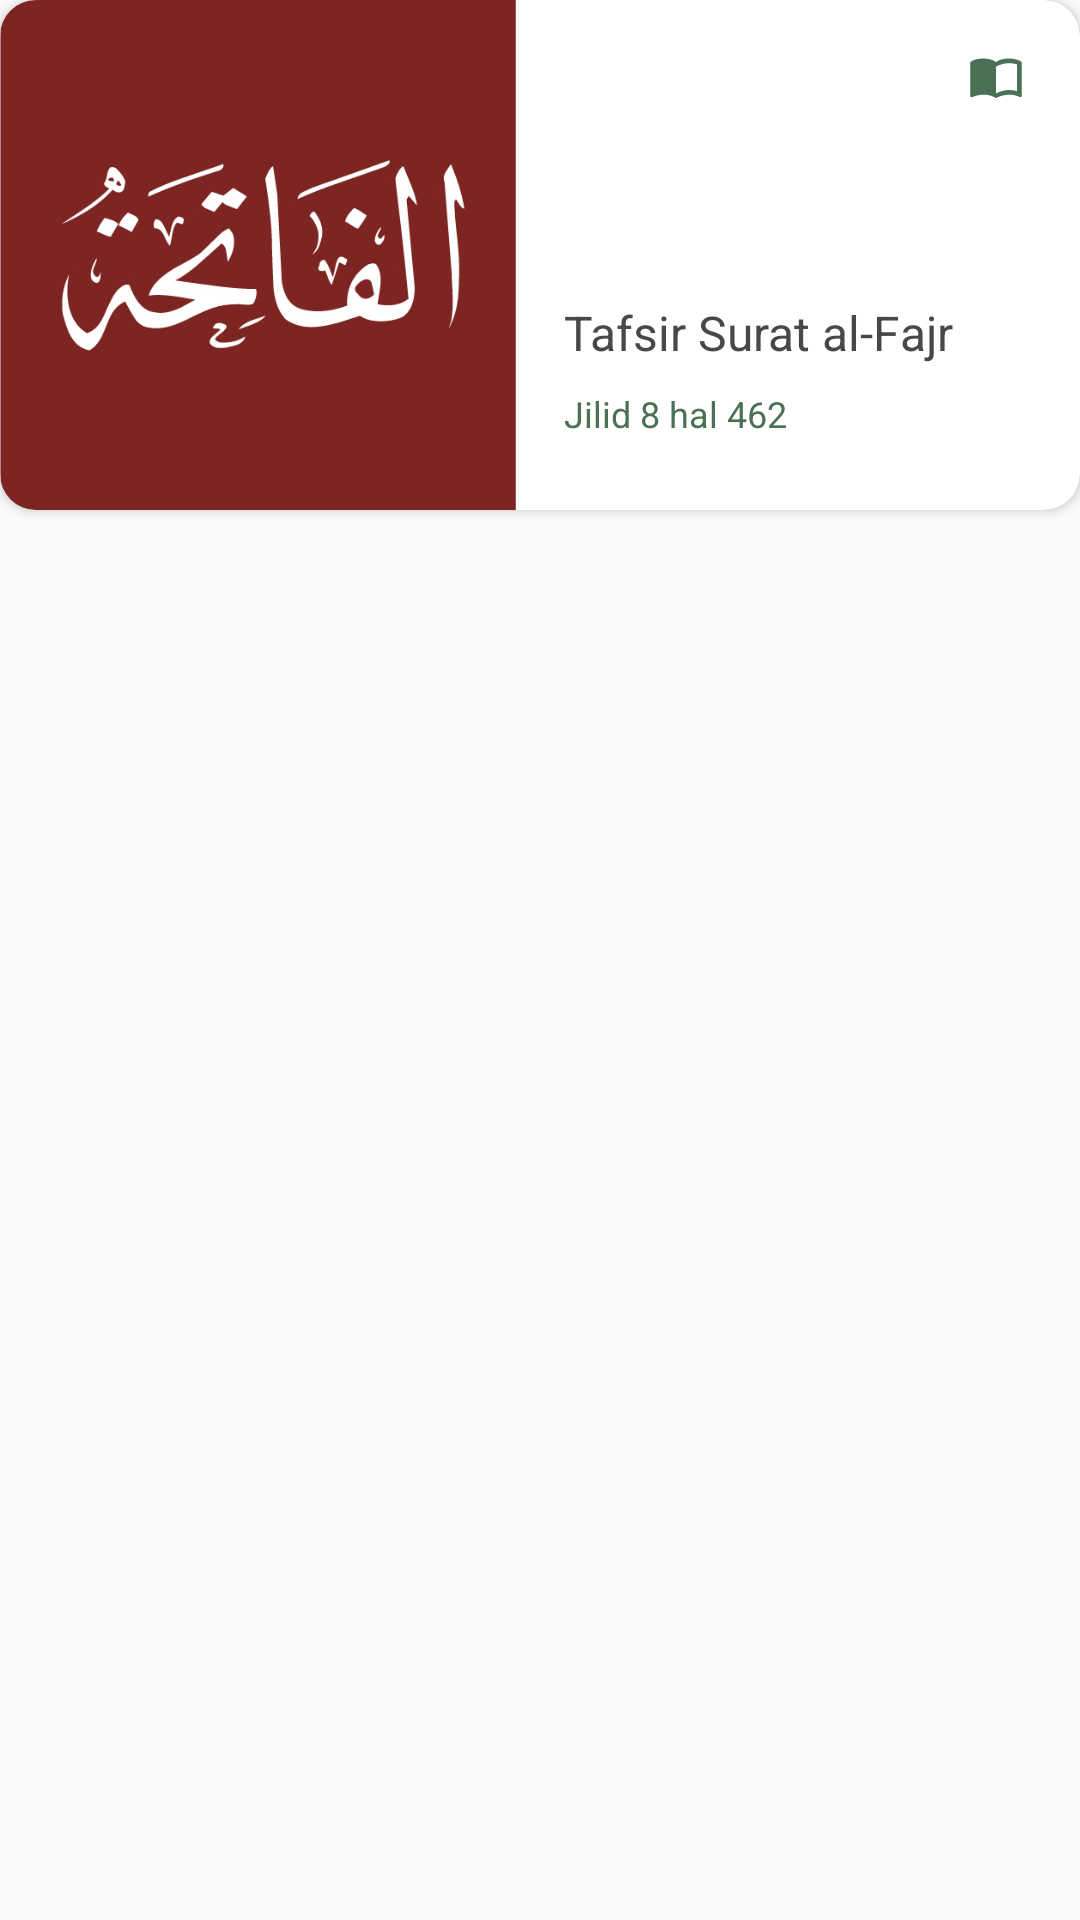

Icons on this 1080px×1920px Android screen, each with the point to tap as point (x, y):
book: point (996, 78)
